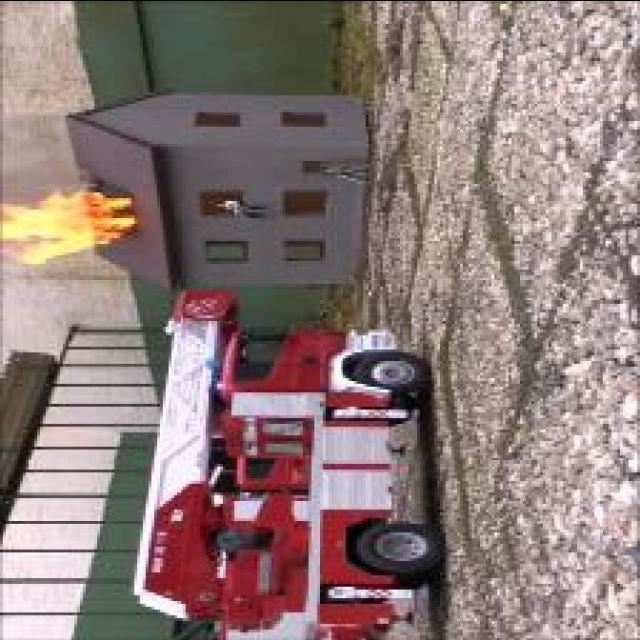Fire: (0, 189, 134, 263)
